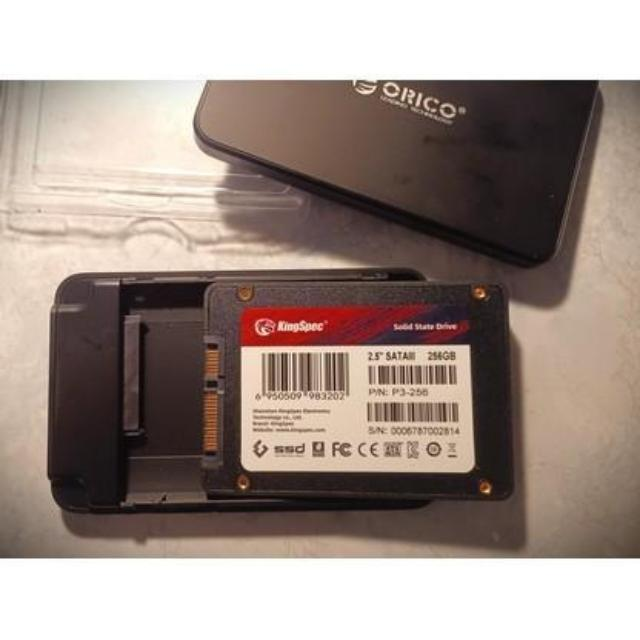DISK: (197, 277, 526, 514)
